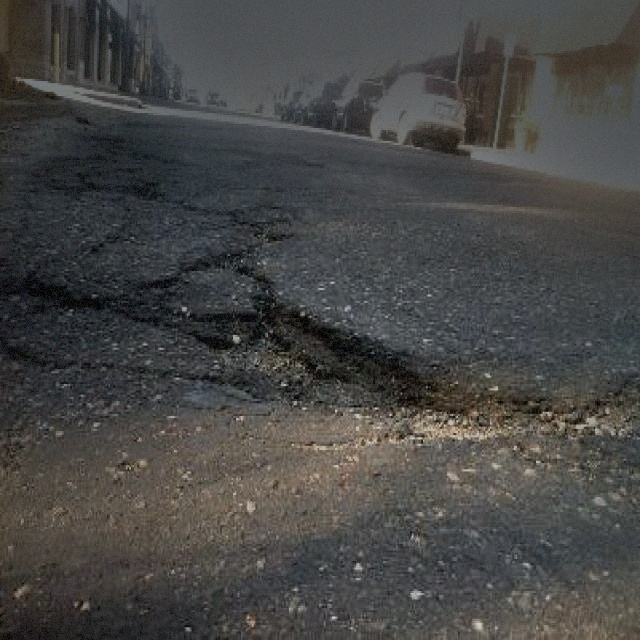pothole: (204, 290, 516, 444), (540, 388, 638, 442)
